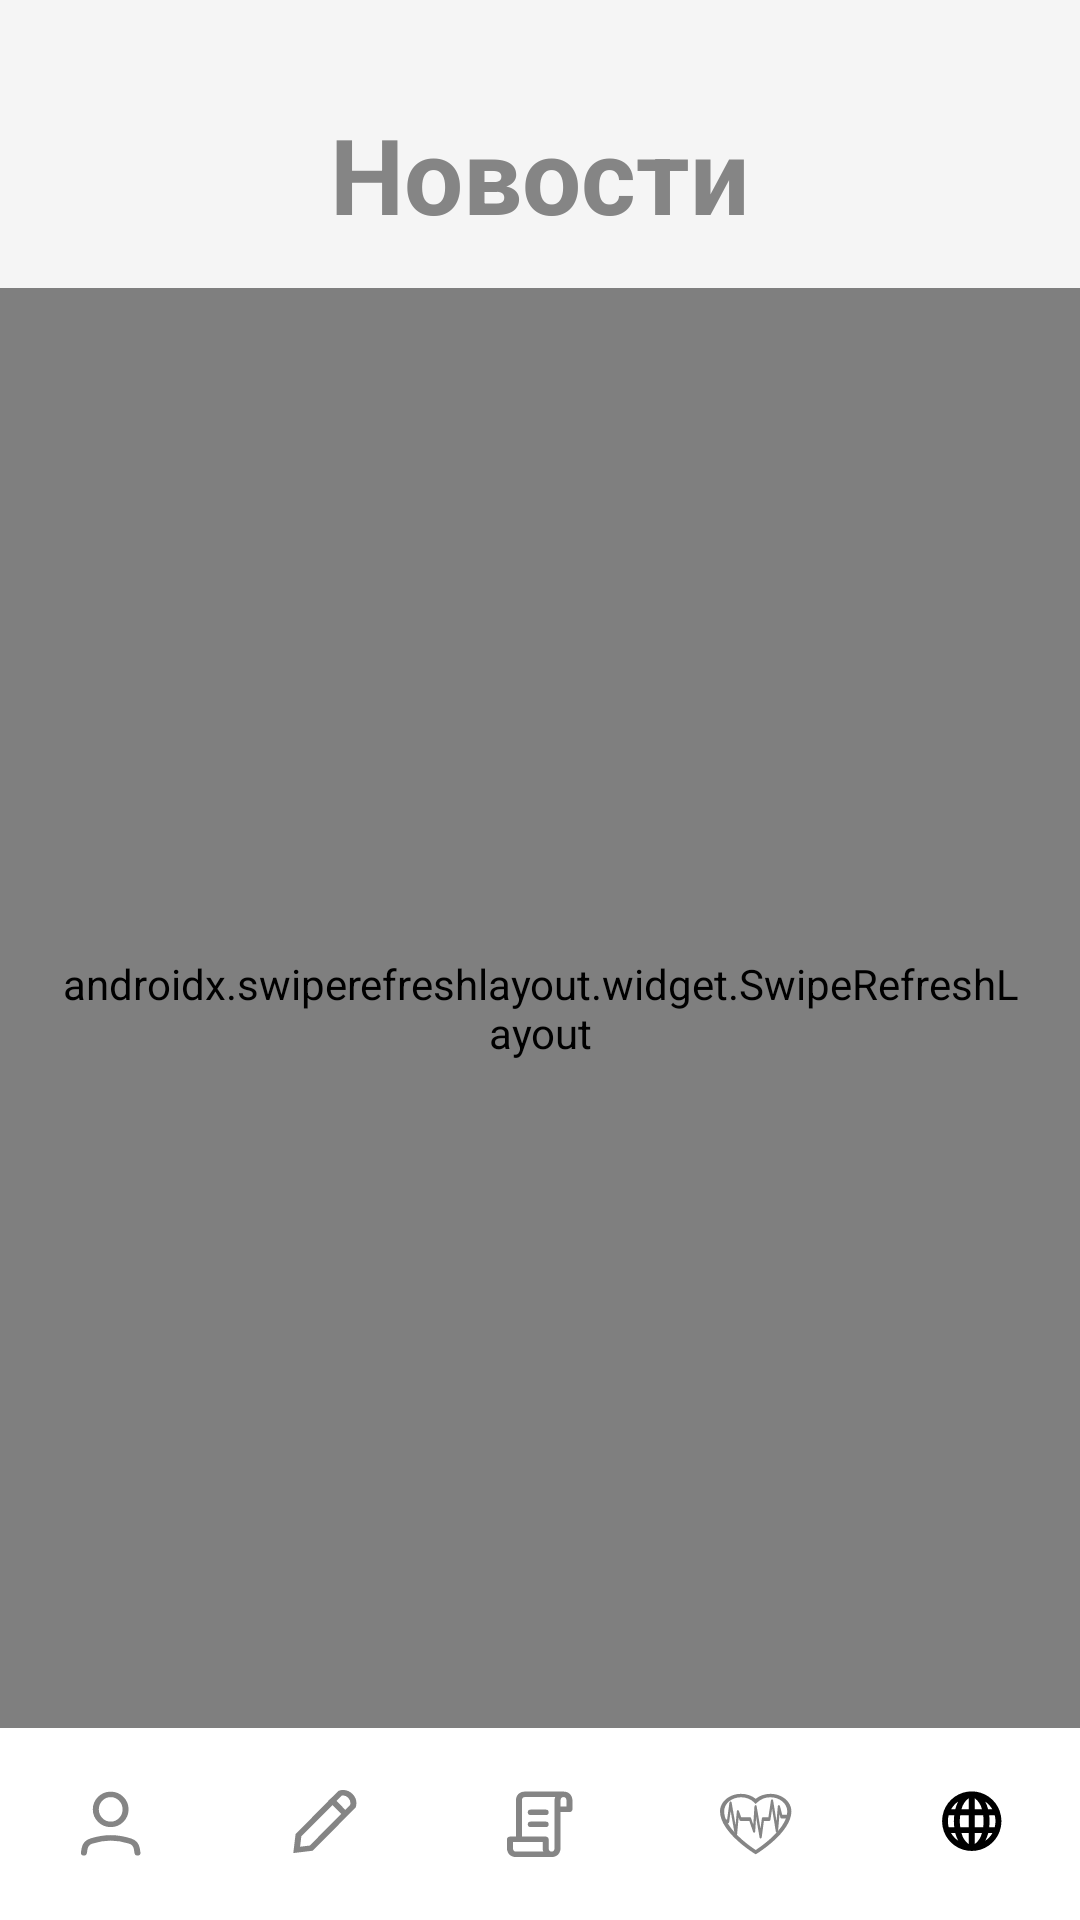

Screen size 1080px x 1920px. Icon name, then its center in pixels as (x,y):
edit: (325,1821)
heart: (756,1823)
profile: (111,1823)
scroll: (540,1824)
